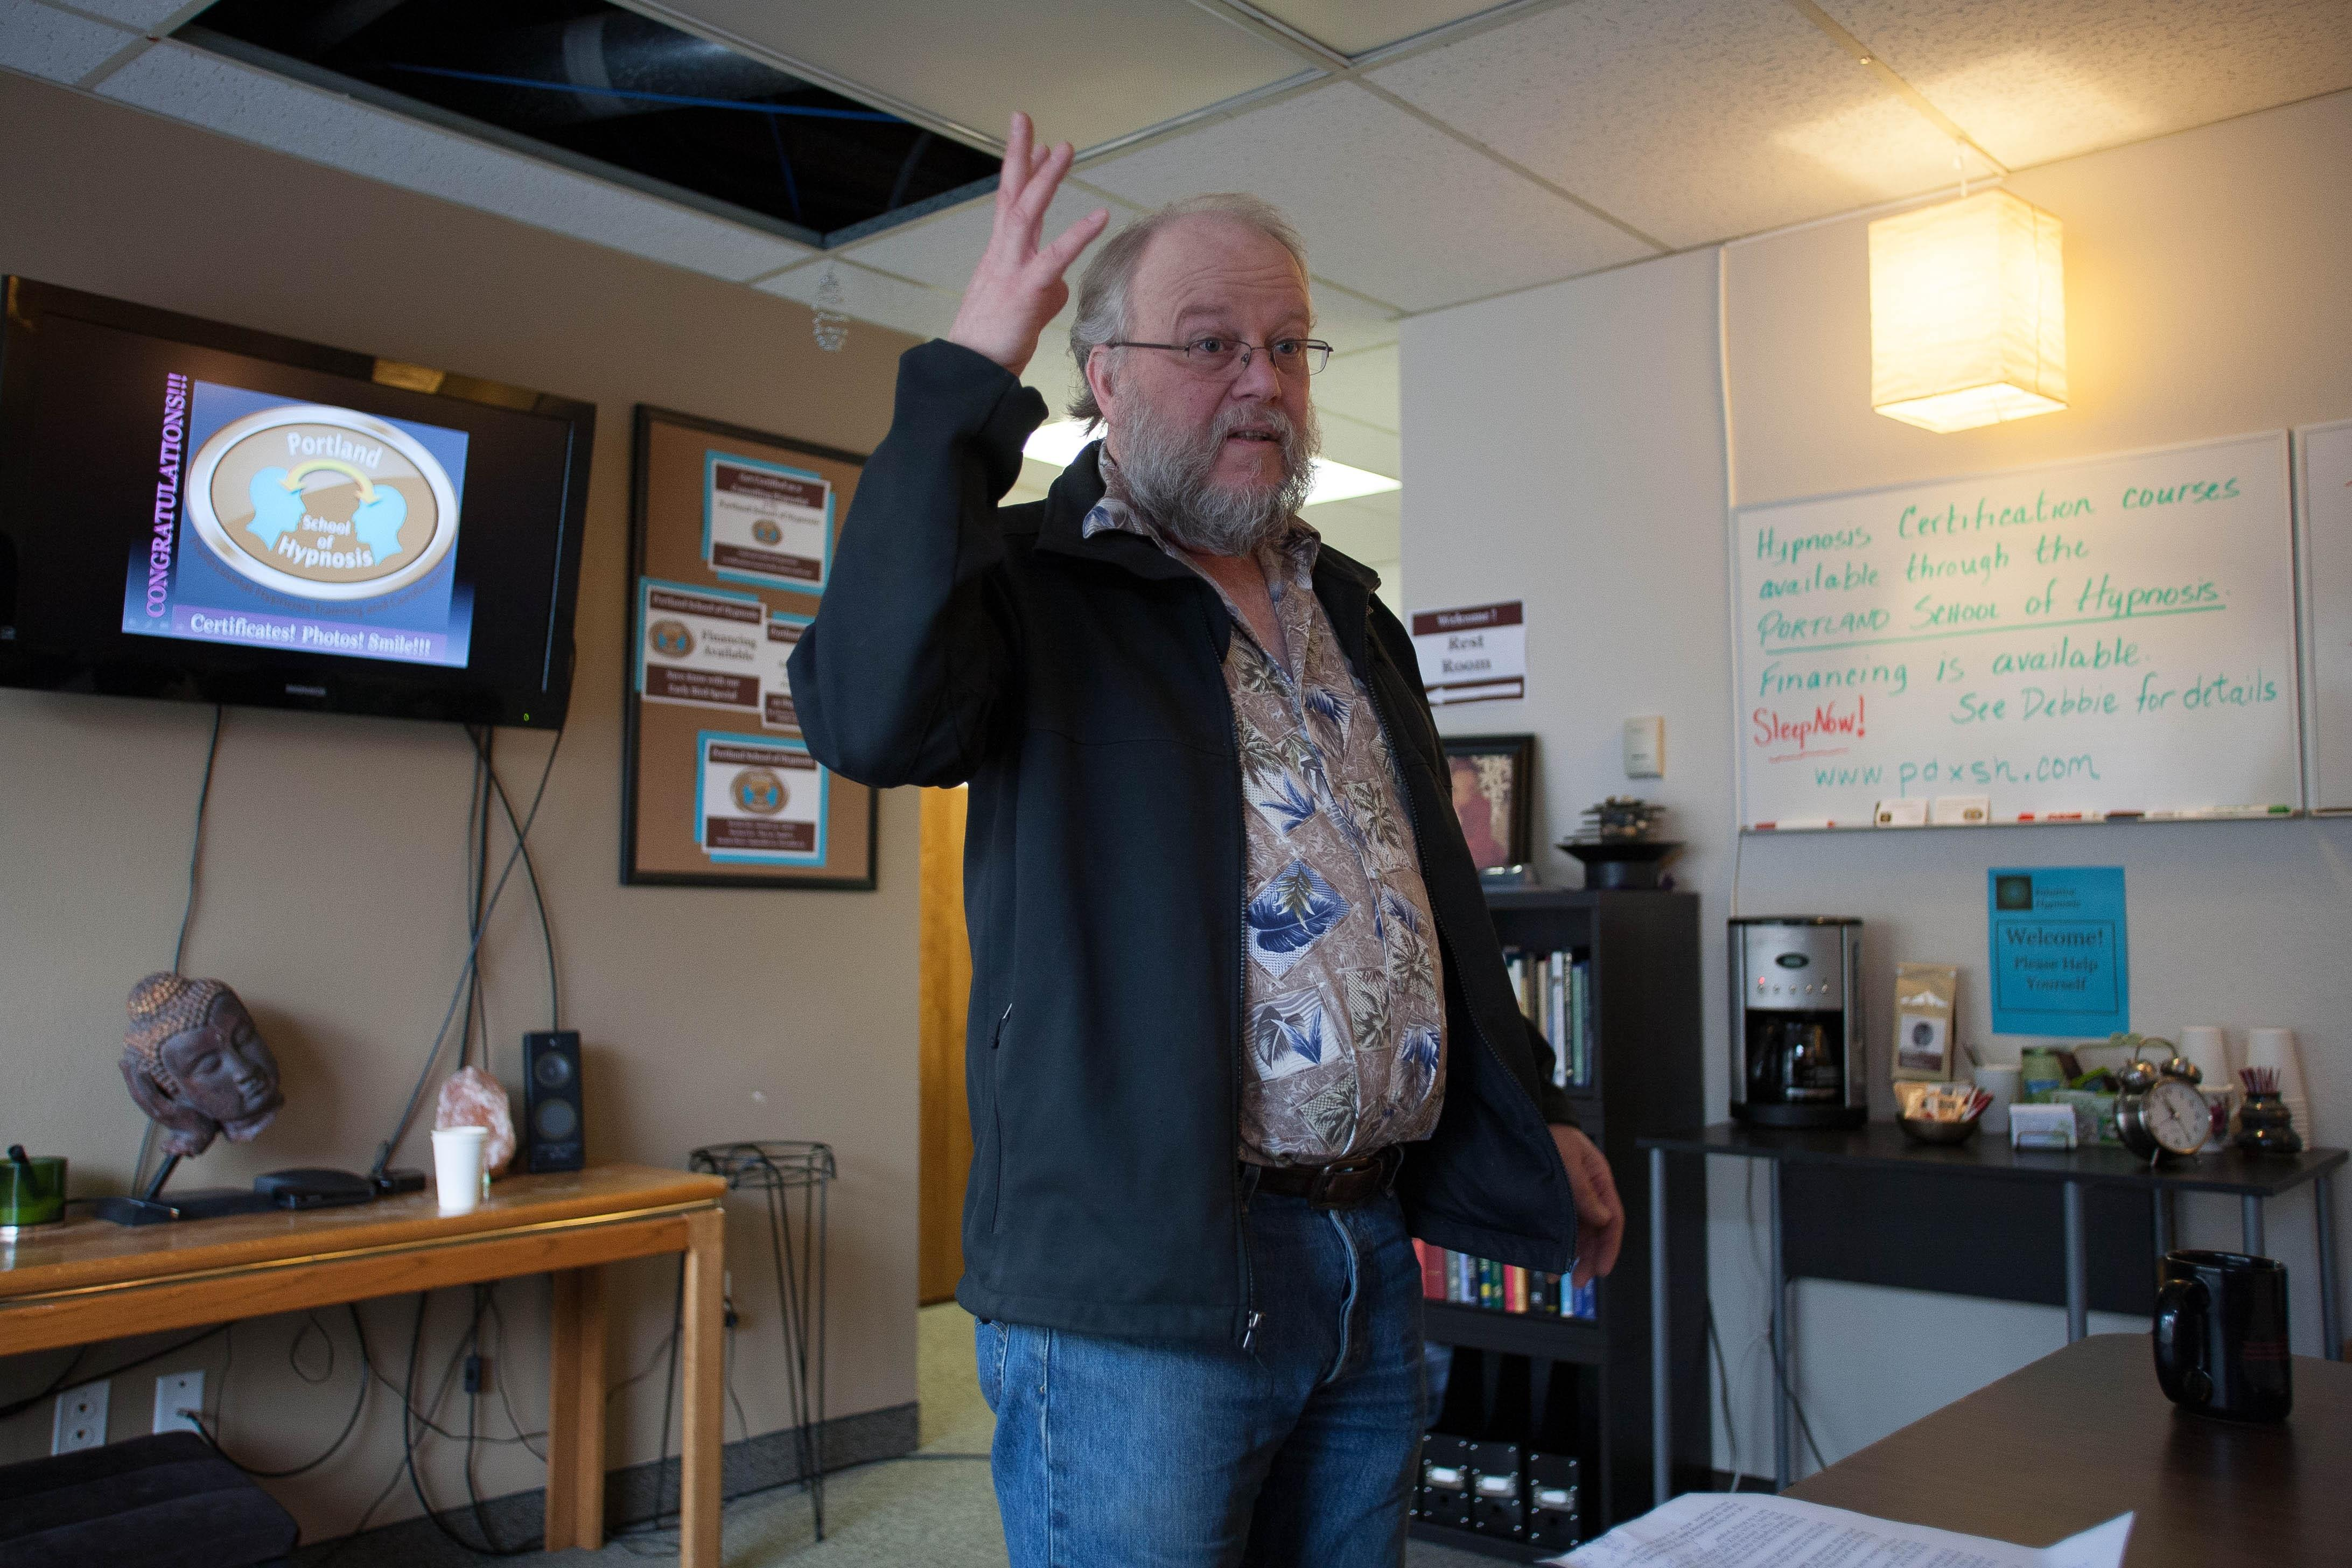AIO PC-Monitor-TV: (0, 273, 598, 733)
Meja: (0, 1167, 726, 1568)
Rak: (1403, 891, 1598, 1557)
Whiteboard: (1731, 423, 2306, 826)
